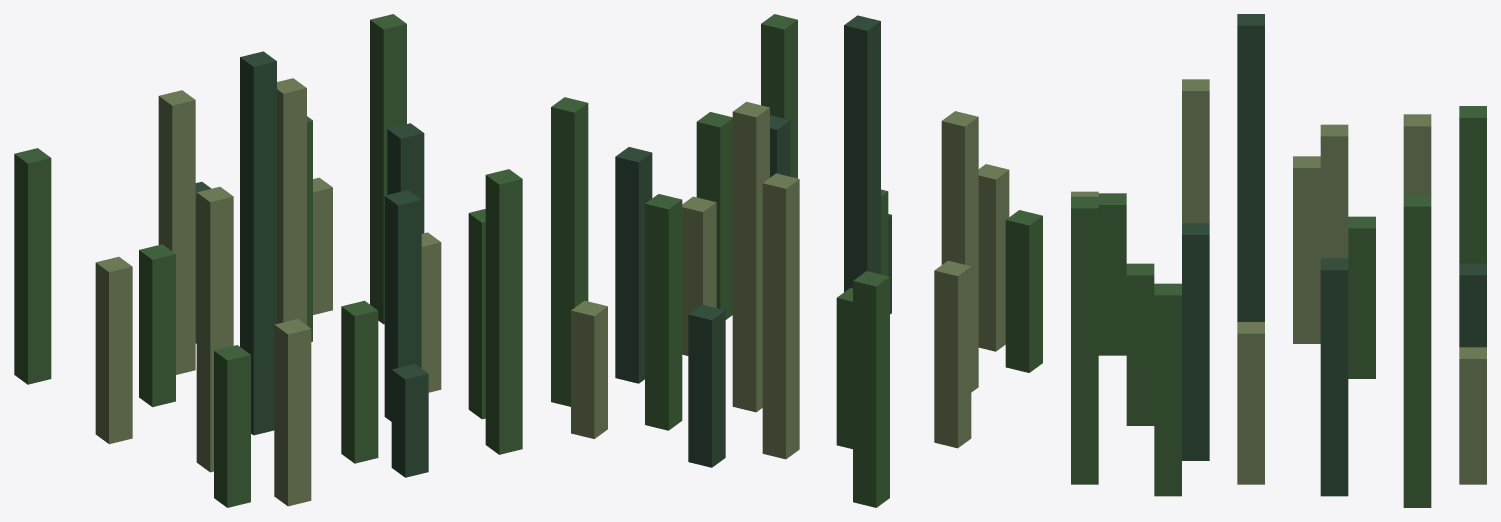
Rendered from bush.obj.
The picture shows the model from 3 angles, left to right: view 1: azimuth 30°, elevation 25°; view 2: azimuth 150°, elevation 25°; view 3: azimuth 270°, elevation 25°; orthographic projection. The views are drawn at different scales.
Visible parts, largest first — view 1: bush; view 2: bush; view 3: bush.
Part boxes in pixels (x1,y1,x2,y2): bush: (14,14,522,507); bush: (551,14,1042,507); bush: (1071,14,1486,507).
Bounding box in the file's own units: 0.1 × 0.1 × 0.1.
